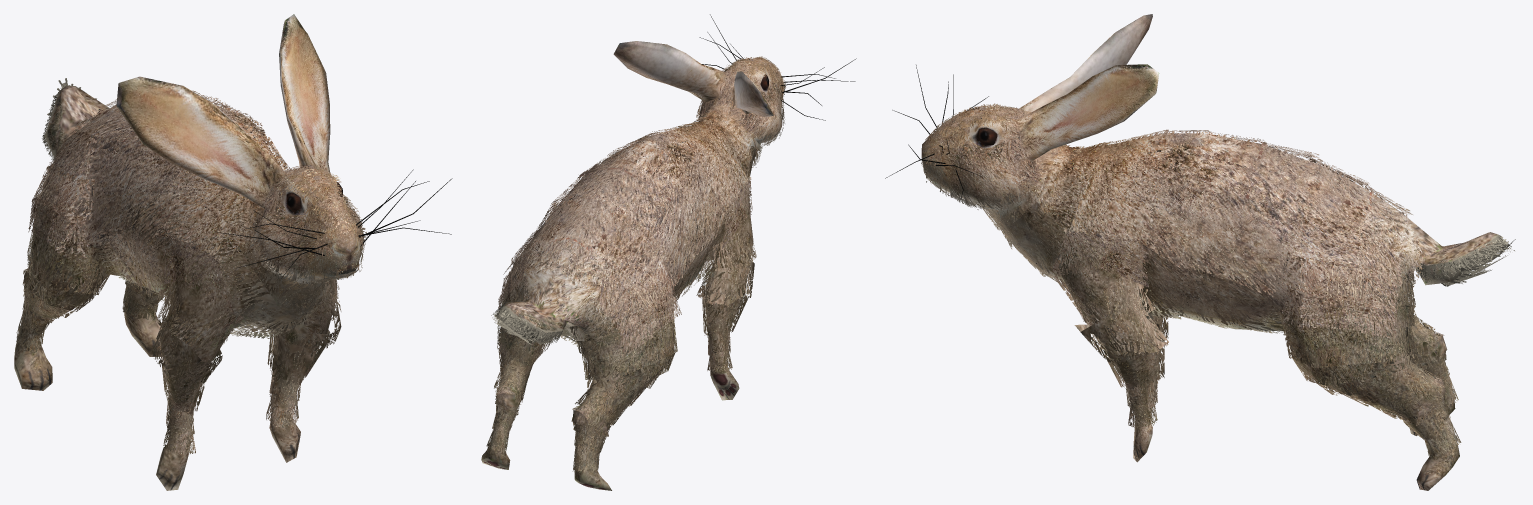
The model's file is rabbit20006.obj.
The picture shows the model from 3 angles, left to right: view 1: azimuth 30°, elevation 25°; view 2: azimuth 150°, elevation 25°; view 3: azimuth 270°, elevation 25°; orthographic projection. The views are drawn at different scales.
Visible parts, largest first — view 1: Rabbit, Fur; view 2: Rabbit, Fur; view 3: Fur, Rabbit.
Part boxes in pixels (left/top/right/bottom): Rabbit: left=14, top=14, right=452, bottom=490; Fur: left=16, top=78, right=367, bottom=455; Rabbit: left=481, top=14, right=856, bottom=490; Fur: left=486, top=56, right=785, bottom=472; Fur: left=921, top=103, right=1515, bottom=457; Rabbit: left=885, top=14, right=1498, bottom=490.
Size of the model in its own units: 8.29 by 15.16 by 21.11.
